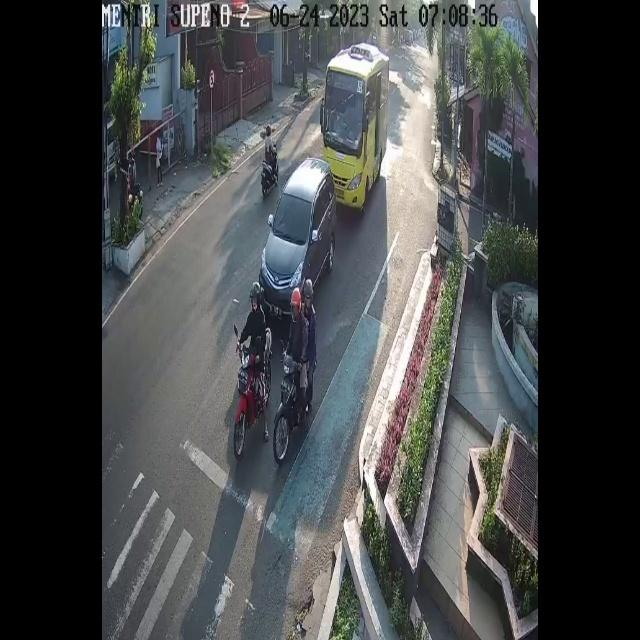bus: (273, 350, 318, 460), (230, 341, 268, 464), (259, 147, 280, 199)
car: (322, 44, 389, 210)
motorcycle: (257, 155, 338, 331)
